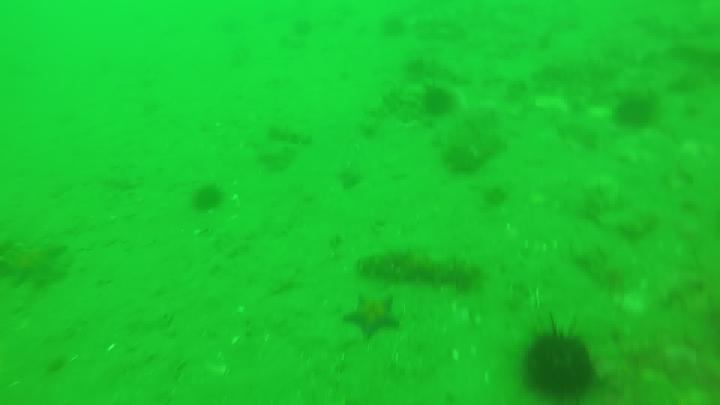echinus: (524, 330, 604, 405), (614, 95, 656, 129), (421, 85, 454, 118), (194, 186, 227, 213)
holothurian: (361, 249, 477, 286)
starfish: (341, 293, 402, 343), (7, 240, 71, 282)
